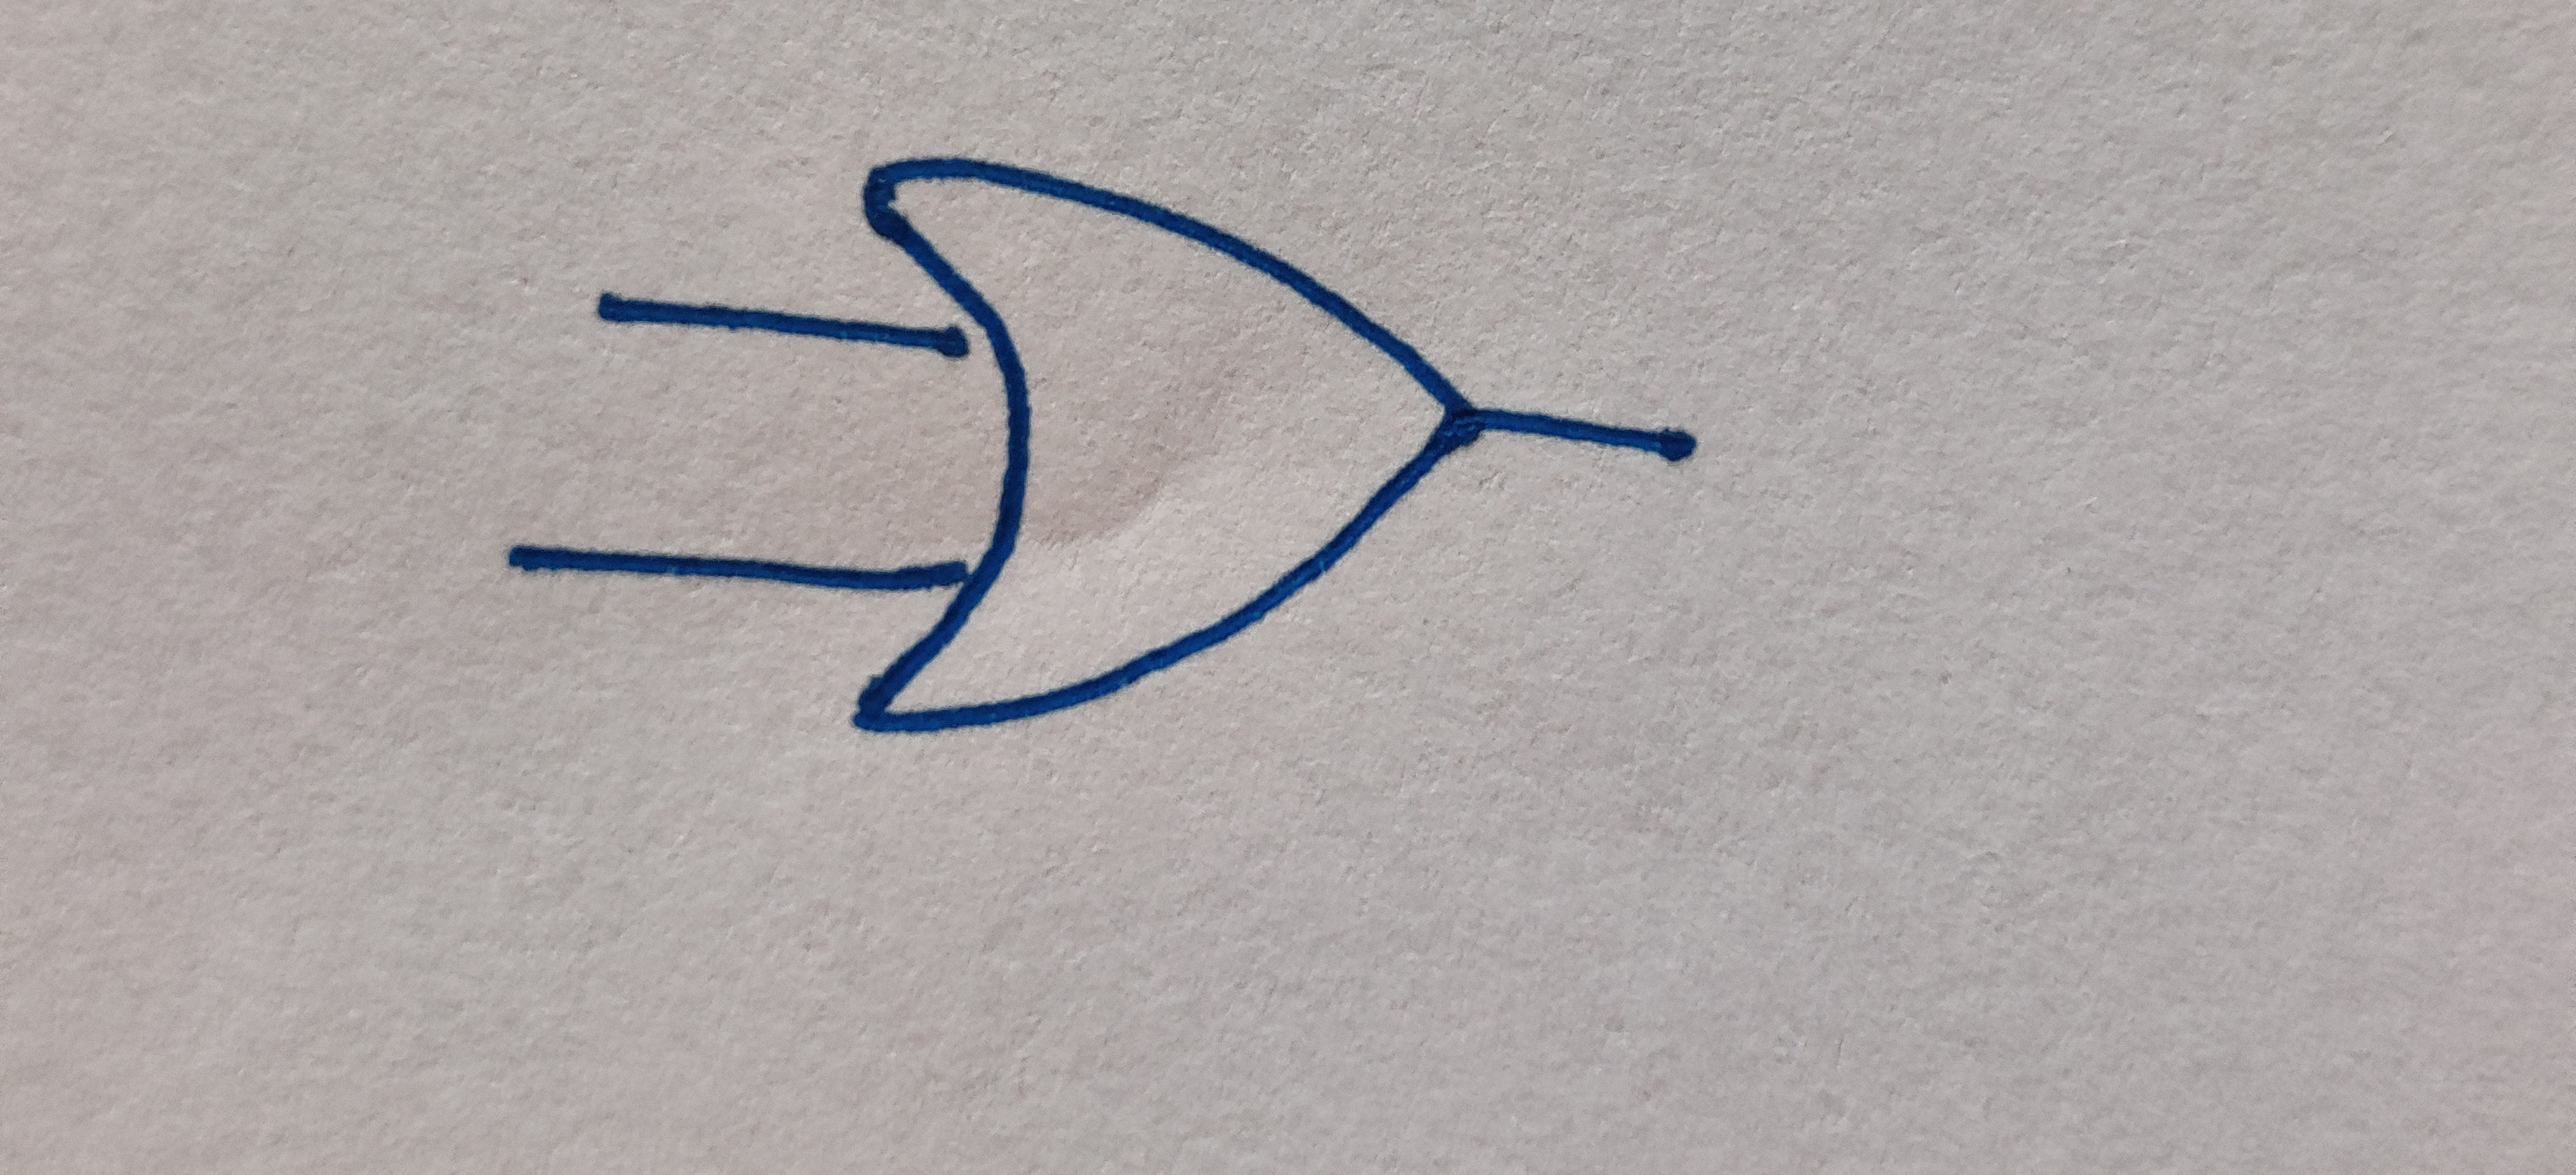or: (861, 158, 1479, 743)
